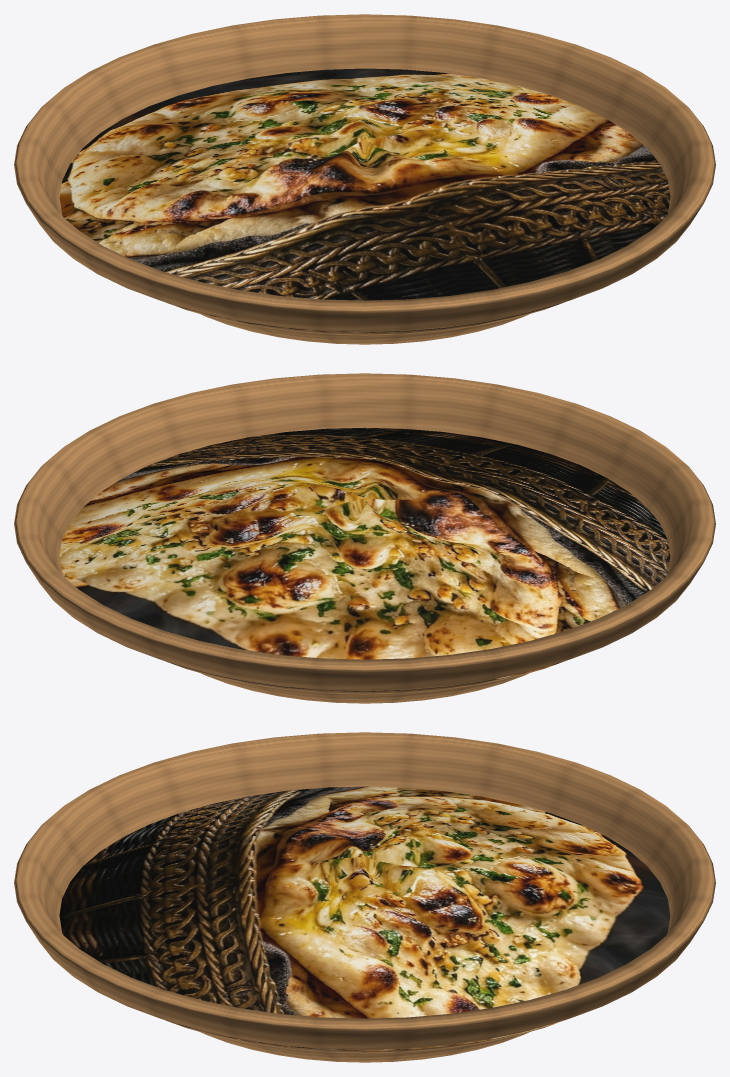
File: kathi-roll.glb
3 views of the same model, one above another, from view 1: azimuth 30°, elevation 25°; view 2: azimuth 150°, elevation 25°; view 3: azimuth 270°, elevation 25° (orthographic).
Parts seen in each view (by area): view 1: FoodMound, BambooBowl; view 2: FoodMound, BambooBowl; view 3: FoodMound, BambooBowl.
Part boxes in pixels (left/top/right/bottom): FoodMound: left=59, top=68, right=670, bottom=332; BambooBowl: left=14, top=14, right=715, bottom=344; FoodMound: left=59, top=427, right=670, bottom=691; BambooBowl: left=14, top=373, right=715, bottom=703; FoodMound: left=59, top=786, right=670, bottom=1050; BambooBowl: left=14, top=732, right=715, bottom=1062.
Size of the model in its own units: 0.23 by 0.042 by 0.23.
2 materials, 2 textured.
